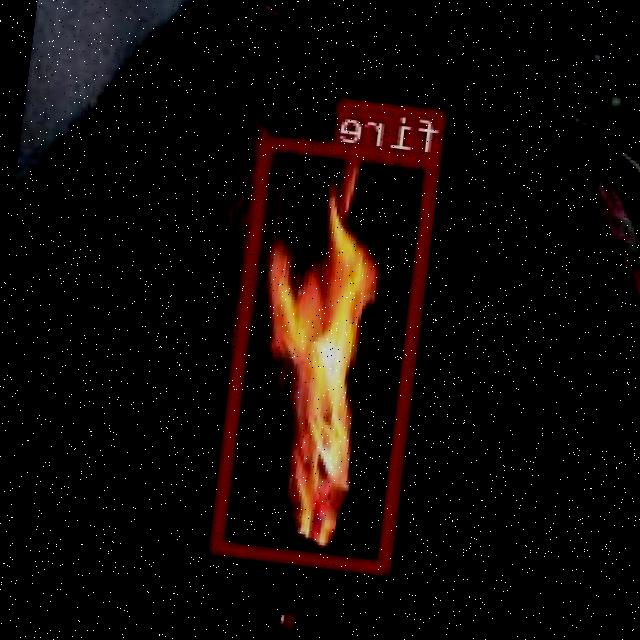fire: (212, 132, 443, 572)
